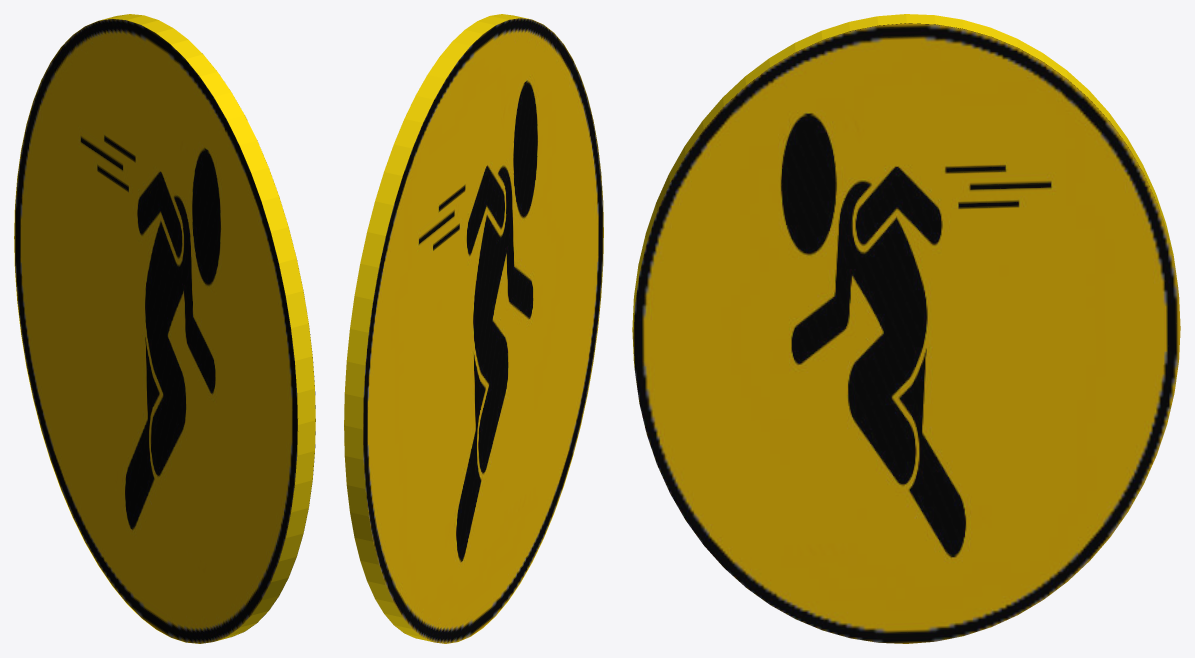
File: coin15.obj
3 views of the same model, side by side, from view 1: azimuth 30°, elevation 25°; view 2: azimuth 150°, elevation 25°; view 3: azimuth 270°, elevation 25° (orthographic). The views are drawn at different scales.
Visible parts, largest first — view 1: Circle.001_Circle.000, Circle.006; view 2: Circle.001_Circle.000, Circle.006; view 3: Circle.005, Circle.006.
Boxes of the visible parts, x1=… form: Circle.001_Circle.000: x1=14, y1=19, x2=298, y2=643; Circle.006: x1=14, y1=14, x2=315, y2=643; Circle.001_Circle.000: x1=362, y1=18, x2=603, y2=643; Circle.006: x1=344, y1=14, x2=603, y2=643; Circle.005: x1=633, y1=23, x2=1180, y2=643; Circle.006: x1=632, y1=14, x2=1180, y2=367.
Size of the model in its own units: 0.3444 by 5 by 4.
Materials: 3 (3 with a texture image).
